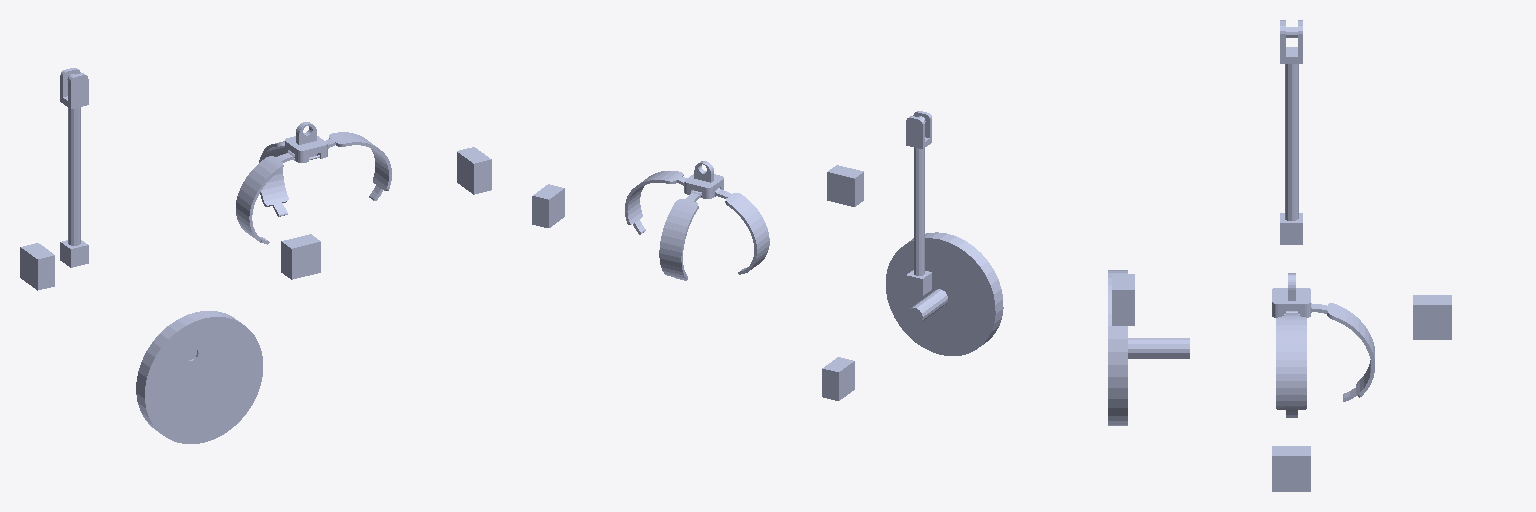
URDF robot description (bot3):
<?xml version="1.0" encoding="utf-8"?>
<!-- This URDF was automatically created by SolidWorks to URDF Exporter! Originally created by [author] ([email redacted]) 
     Commit Version: 1.4.4-24-g24328f6  Build Version: 1.5.7084.36479
     For more information, please see http://wiki.ros.org/sw_urdf_exporter -->
<robot
  name="bot3">
  <link
    name="base_link">
    <inertial>
      <origin
        xyz="-0.00539024896013846 2.31910501349275E-16 0.0541649239591863"
        rpy="0 0 0" />
      <mass
        value="14.2038893873335" />
      <inertia
        ixx="0.27974817084405"
        ixy="1.99628703435387E-16"
        ixz="0.00733737300937465"
        iyy="0.314594359353927"
        iyz="5.31003671631253E-17"
        izz="0.507038773077114" />
    </inertial>
    <visual>
      <origin
        xyz="0 0 0"
        rpy="0 0 0" />
      <geometry>
        <mesh
          filename="package://bot3/meshes/base_link.STL" />
      </geometry>
      <material
        name="">
        <color
          rgba="0.792156862745098 0.819607843137255 0.933333333333333 1" />
      </material>
    </visual>
    <collision>
      <origin
        xyz="0 0 0"
        rpy="0 0 0" />
      <geometry>
        <mesh
          filename="package://bot3/meshes/base_link.STL" />
      </geometry>
    </collision>
  </link>
  <link
    name="FRW">
    <inertial>
      <origin
        xyz="0 -7.53920386007134E-05 -0.089381031363088"
        rpy="0 0 0" />
      <mass
        value="0.8334016991443" />
      <inertia
        ixx="0.00215743548655978"
        ixy="4.33680868994202E-19"
        ixz="1.75229940963233E-19"
        iyy="0.00216058181623486"
        iyz="-8.55705036383949E-07"
        izz="0.0039286091523943" />
    </inertial>
    <visual>
      <origin
        xyz="0 0 0"
        rpy="0 0 0" />
      <geometry>
        <mesh
          filename="package://bot3/meshes/FRW.STL" />
      </geometry>
      <material
        name="">
        <color
          rgba="0.792156862745098 0.819607843137255 0.933333333333333 1" />
      </material>
    </visual>
    <collision>
      <origin
        xyz="0 0 0"
        rpy="0 0 0" />
      <geometry>
        <mesh
          filename="package://bot3/meshes/FRW.STL" />
      </geometry>
    </collision>
  </link>
  <joint
    name="FRWJ"
    type="continuous">
    <origin
      xyz="0.125 -0.13 -0.025"
      rpy="1.5707963267949 0.39309481042652 -3.14159265358979" />
    <parent
      link="base_link" />
    <child
      link="FRW" />
    <axis
      xyz="0 0 1" />
    <safety_controller
      k_velocity="0" />
  </joint>
  <link
    name="RRW">
    <inertial>
      <origin
        xyz="-2.77555756156289E-17 -7.53920386007342E-05 -0.089381031363088"
        rpy="0 0 0" />
      <mass
        value="0.8334016991443" />
      <inertia
        ixx="0.00215743548655978"
        ixy="2.71050543121376E-19"
        ixz="4.66926912173933E-20"
        iyy="0.00216058181623486"
        iyz="-8.55705036383985E-07"
        izz="0.0039286091523943" />
    </inertial>
    <visual>
      <origin
        xyz="0 0 0"
        rpy="0 0 0" />
      <geometry>
        <mesh
          filename="package://bot3/meshes/RRW.STL" />
      </geometry>
      <material
        name="">
        <color
          rgba="0.792156862745098 0.819607843137255 0.933333333333333 1" />
      </material>
    </visual>
    <collision>
      <origin
        xyz="0 0 0"
        rpy="0 0 0" />
      <geometry>
        <mesh
          filename="package://bot3/meshes/RRW.STL" />
      </geometry>
    </collision>
  </link>
  <joint
    name="RRWJ"
    type="continuous">
    <origin
      xyz="-0.125 -0.13 -0.025"
      rpy="1.5707963267949 0.39309481042652 -3.14159265358979" />
    <parent
      link="base_link" />
    <child
      link="RRW" />
    <axis
      xyz="0 0 1" />
    <safety_controller
      k_velocity="0" />
  </joint>
  <link
    name="FLW">
    <inertial>
      <origin
        xyz="0 -7.53920386007238E-05 -0.0893810313630881"
        rpy="0 0 0" />
      <mass
        value="0.8334016991443" />
      <inertia
        ixx="0.00215743548655978"
        ixy="-8.79635490065067E-21"
        ixz="2.78368928810459E-19"
        iyy="0.00216058181623486"
        iyz="-8.5570503638385E-07"
        izz="0.0039286091523943" />
    </inertial>
    <visual>
      <origin
        xyz="0 0 0"
        rpy="0 0 0" />
      <geometry>
        <mesh
          filename="package://bot3/meshes/FLW.STL" />
      </geometry>
      <material
        name="">
        <color
          rgba="0.792156862745098 0.819607843137255 0.933333333333333 1" />
      </material>
    </visual>
    <collision>
      <origin
        xyz="0 0 0"
        rpy="0 0 0" />
      <geometry>
        <mesh
          filename="package://bot3/meshes/FLW.STL" />
      </geometry>
    </collision>
  </link>
  <joint
    name="FLWJ"
    type="continuous">
    <origin
      xyz="0.125000000000004 0.13 -0.025"
      rpy="1.5707963267949 0 0" />
    <parent
      link="base_link" />
    <child
      link="FLW" />
    <axis
      xyz="0 0 1" />
    <safety_controller
      k_velocity="0" />
  </joint>
  <link
    name="RLW">
    <inertial>
      <origin
        xyz="-1.38777878078145E-17 -7.53920386007238E-05 -0.0893810313630881"
        rpy="0 0 0" />
      <mass
        value="0.8334016991443" />
      <inertia
        ixx="0.00215743548655978"
        ixy="-8.79635490065067E-21"
        ixz="2.78368928810459E-19"
        iyy="0.00216058181623486"
        iyz="-8.5570503638385E-07"
        izz="0.0039286091523943" />
    </inertial>
    <visual>
      <origin
        xyz="0 0 0"
        rpy="0 0 0" />
      <geometry>
        <mesh
          filename="package://bot3/meshes/RLW.STL" />
      </geometry>
      <material
        name="">
        <color
          rgba="0.792156862745098 0.819607843137255 0.933333333333333 1" />
      </material>
    </visual>
    <collision>
      <origin
        xyz="0 0 0"
        rpy="0 0 0" />
      <geometry>
        <mesh
          filename="package://bot3/meshes/RLW.STL" />
      </geometry>
    </collision>
  </link>
  <joint
    name="RLWJ"
    type="continuous">
    <origin
      xyz="-0.124999999999996 0.13 -0.025"
      rpy="1.5707963267949 0 0" />
    <parent
      link="base_link" />
    <child
      link="RLW" />
    <axis
      xyz="0 0 1" />
    <safety_controller
      k_velocity="0" />
  </joint>
  <link
    name="CL">
    <inertial>
      <origin
        xyz="0.015 0 -6.93889390390723E-18"
        rpy="0 0 0" />
      <mass
        value="0.075" />
      <inertia
        ixx="3.125E-05"
        ixy="4.76321900401482E-37"
        ixz="4.23516473627154E-22"
        iyy="2.125E-05"
        iyz="-1.92107072437275E-21"
        izz="2.125E-05" />
    </inertial>
    <visual>
      <origin
        xyz="0 0 0"
        rpy="0 0 0" />
      <geometry>
        <mesh
          filename="package://bot3/meshes/CL.STL" />
      </geometry>
      <material
        name="">
        <color
          rgba="0.792156862745098 0.819607843137255 0.933333333333333 1" />
      </material>
    </visual>
    <collision>
      <origin
        xyz="0 0 0"
        rpy="0 0 0" />
      <geometry>
        <mesh
          filename="package://bot3/meshes/CL.STL" />
      </geometry>
    </collision>
  </link>
  <joint
    name="CLJ"
    type="fixed">
    <origin
      xyz="0.05 0.23 0.125"
      rpy="-1.5707963267949 0 -1.5707963267949" />
    <parent
      link="base_link" />
    <child
      link="CL" />
    <axis
      xyz="0 0 0" />
    <safety_controller
      k_velocity="0" />
  </joint>
  <link
    name="CR">
    <inertial>
      <origin
        xyz="-0.215 0.125 0.0500000000000001"
        rpy="0 0 0" />
      <mass
        value="0.075" />
      <inertia
        ixx="3.125E-05"
        ixy="-1.62630325872826E-22"
        ixz="4.23516473627154E-22"
        iyy="2.125E-05"
        iyz="-1.30556011603463E-21"
        izz="2.125E-05" />
    </inertial>
    <visual>
      <origin
        xyz="0 0 0"
        rpy="0 0 0" />
      <geometry>
        <mesh
          filename="package://bot3/meshes/CR.STL" />
      </geometry>
      <material
        name="">
        <color
          rgba="0.792156862745098 0.819607843137255 0.933333333333333 1" />
      </material>
    </visual>
    <collision>
      <origin
        xyz="0 0 0"
        rpy="0 0 0" />
      <geometry>
        <mesh
          filename="package://bot3/meshes/CR.STL" />
      </geometry>
    </collision>
  </link>
  <joint
    name="CRJ"
    type="fixed">
    <origin
      xyz="0 0 0"
      rpy="1.5707963267949 0 1.5707963267949" />
    <parent
      link="base_link" />
    <child
      link="CR" />
    <axis
      xyz="0 0 0" />
    <safety_controller
      k_velocity="0" />
  </joint>
  <link
    name="FC">
    <inertial>
      <origin
        xyz="0.015 0 -3.18704616733903E-17"
        rpy="0 0 0" />
      <mass
        value="0.075" />
      <inertia
        ixx="3.125E-05"
        ixy="3.52930394689292E-22"
        ixz="-3.52930394689292E-22"
        iyy="2.125E-05"
        iyz="-1.53821183221381E-21"
        izz="2.125E-05" />
    </inertial>
    <visual>
      <origin
        xyz="0 0 0"
        rpy="0 0 0" />
      <geometry>
        <mesh
          filename="package://bot3/meshes/FC.STL" />
      </geometry>
      <material
        name="">
        <color
          rgba="0.792156862745098 0.819607843137255 0.933333333333333 1" />
      </material>
    </visual>
    <collision>
      <origin
        xyz="0 0 0"
        rpy="0 0 0" />
      <geometry>
        <mesh
          filename="package://bot3/meshes/FC.STL" />
      </geometry>
    </collision>
  </link>
  <joint
    name="FCJ"
    type="fixed">
    <origin
      xyz="0.225 0 0.04"
      rpy="1.5707963267949 0 0" />
    <parent
      link="base_link" />
    <child
      link="FC" />
    <axis
      xyz="0 0 0" />
    <safety_controller
      k_velocity="0" />
  </joint>
  <link
    name="EX1">
    <inertial>
      <origin
        xyz="0.161155451186496 0 -7.57413246857604E-18"
        rpy="0 0 0" />
      <mass
        value="0.14636282401554" />
      <inertia
        ixx="1.12799200839636E-05"
        ixy="6.14857749091434E-22"
        ixz="-1.3552621625763E-20"
        iyy="0.00339929403847134"
        iyz="-3.71025841885802E-22"
        izz="0.0033988227995733" />
    </inertial>
    <visual>
      <origin
        xyz="0 0 0"
        rpy="0 0 0" />
      <geometry>
        <mesh
          filename="package://bot3/meshes/EX1.STL" />
      </geometry>
      <material
        name="">
        <color
          rgba="0.792156862745098 0.819607843137255 0.933333333333333 1" />
      </material>
    </visual>
    <collision>
      <origin
        xyz="0 0 0"
        rpy="0 0 0" />
      <geometry>
        <mesh
          filename="package://bot3/meshes/EX1.STL" />
      </geometry>
    </collision>
  </link>
  <joint
    name="EX1J"
    type="prismatic">
    <origin
      xyz="0 0 0.305"
      rpy="1.5708 0 0" />
    <parent
      link="base_link" />
    <child
      link="EX1" />
    <axis
      xyz="1 0 0" />
    <limit
      lower="-0.315"
      upper="-0.1"
      effort="0"
      velocity="0.1" />
    <safety_controller
      k_velocity="0" />
  </joint>
  <link
    name="EX2">
    <inertial>
      <origin
        xyz="4.44089209850063E-16 0.0920741402028054 -1.69838482734986E-17"
        rpy="0 0 0" />
      <mass
        value="0.113544104313874" />
      <inertia
        ixx="0.00122889380118715"
        ixy="-6.75437002260653E-18"
        ixz="-1.55096364853646E-22"
        iyy="1.14057807724062E-05"
        iyz="8.31875062783753E-21"
        izz="0.00122785139310429" />
    </inertial>
    <visual>
      <origin
        xyz="0 0 0"
        rpy="0 0 0" />
      <geometry>
        <mesh
          filename="package://bot3/meshes/EX2.STL" />
      </geometry>
      <material
        name="">
        <color
          rgba="0.792156862745098 0.819607843137255 0.933333333333333 1" />
      </material>
    </visual>
    <collision>
      <origin
        xyz="0 0 0"
        rpy="0 0 0" />
      <geometry>
        <mesh
          filename="package://bot3/meshes/EX2.STL" />
      </geometry>
    </collision>
  </link>
  <joint
    name="EX2J"
    type="prismatic">
    <origin
      xyz="0.39 0 0"
      rpy="0 0 -3.1416" />
    <parent
      link="EX1" />
    <child
      link="EX2" />
    <axis
      xyz="0 1 0" />
    <limit
      lower="-0.19"
      upper="-0.1"
      effort="0"
      velocity="0.1" />
    <safety_controller
      k_velocity="0" />
  </joint>
  <link
    name="CH">
    <inertial>
      <origin
        xyz="0.00500000000000006 -0.0216242094225185 -3.35279381550874E-17"
        rpy="0 0 0" />
      <mass
        value="0.048063273821427" />
      <inertia
        ixx="1.24572997737268E-05"
        ixy="4.65115346063441E-20"
        ixz="1.86115637824402E-21"
        iyy="1.73208224160396E-05"
        iyz="2.84519850944701E-20"
        izz="1.29112365047557E-05" />
    </inertial>
    <visual>
      <origin
        xyz="0 0 0"
        rpy="0 0 0" />
      <geometry>
        <mesh
          filename="package://bot3/meshes/CH.STL" />
      </geometry>
      <material
        name="">
        <color
          rgba="0.792156862745098 0.819607843137255 0.933333333333333 1" />
      </material>
    </visual>
    <collision>
      <origin
        xyz="0 0 0"
        rpy="0 0 0" />
      <geometry>
        <mesh
          filename="package://bot3/meshes/CH.STL" />
      </geometry>
    </collision>
  </link>
  <joint
    name="CHJ"
    type="revolute">
    <origin
      xyz="-0.00499999999999851 0.242500000000001 0"
      rpy="-3.14159265358979 0 0" />
    <parent
      link="EX2" />
    <child
      link="CH" />
    <axis
      xyz="0 0 1" />
    <limit
      lower="0"
      upper="1.6580627893946"
      effort="0"
      velocity="0.5527" />
    <safety_controller
      k_velocity="0" />
  </joint>
  <link
    name="F1">
    <inertial>
      <origin
        xyz="0.034932994986131 -0.0674950984027777 0.00999999691479042"
        rpy="0 0 0" />
      <mass
        value="0.0327956240400983" />
      <inertia
        ixx="6.15283967579236E-05"
        ixy="2.86215799158532E-06"
        ixz="-1.46173231479775E-12"
        iyy="1.18367075887975E-05"
        iyz="9.69053696758723E-12"
        izz="6.56025930550832E-05" />
    </inertial>
    <visual>
      <origin
        xyz="0 0 0"
        rpy="0 0 0" />
      <geometry>
        <mesh
          filename="package://bot3/meshes/F1.STL" />
      </geometry>
      <material
        name="">
        <color
          rgba="0.792156862745098 0.819607843137255 0.933333333333333 1" />
      </material>
    </visual>
    <collision>
      <origin
        xyz="0 0 0"
        rpy="0 0 0" />
      <geometry>
        <mesh
          filename="package://bot3/meshes/F1.STL" />
      </geometry>
    </collision>
  </link>
  <joint
    name="F1J"
    type="continuous">
    <origin
      xyz="-0.00500000000000017 -0.034466812234734 -0.0285765554884929"
      rpy="1.5707963267949 1.41405965199374 1.5707963267949" />
    <parent
      link="CH" />
    <child
      link="F1" />
    <axis
      xyz="0 0 1" />
    <safety_controller
      k_velocity="0" />
  </joint>
  <link
    name="F2">
    <inertial>
      <origin
        xyz="0.0052327318000738 -0.0442174523889779 0.0398034278907389"
        rpy="0 0 0" />
      <mass
        value="0.0655912984650824" />
      <inertia
        ixx="0.00012411457716629"
        ixy="-6.0584261167262E-06"
        ixz="8.01016987477847E-06"
        iyy="5.10590953648672E-05"
        iyz="2.36879809001188E-05"
        izz="0.000102761979754364" />
    </inertial>
    <visual>
      <origin
        xyz="0 0 0"
        rpy="0 0 0" />
      <geometry>
        <mesh
          filename="package://bot3/meshes/F2.STL" />
      </geometry>
      <material
        name="">
        <color
          rgba="0.792156862745098 0.819607843137255 0.933333333333333 1" />
      </material>
    </visual>
    <collision>
      <origin
        xyz="0 0 0"
        rpy="0 0 0" />
      <geometry>
        <mesh
          filename="package://bot3/meshes/F2.STL" />
      </geometry>
    </collision>
  </link>
  <joint
    name="F2J"
    type="continuous">
    <origin
      xyz="-0.00500000000000017 -0.032023443363666 0.0226843374036491"
      rpy="-1.5707963267949 -1.24471431687375 1.5707963267949" />
    <parent
      link="CH" />
    <child
      link="F2" />
    <axis
      xyz="0 0 1" />
    <safety_controller
      k_velocity="0" />
  </joint>
  <link
    name="F3">
    <inertial>
      <origin
        xyz="0.0404031061220904 -0.0707168179872533 -0.0100000040745558"
        rpy="0 0 0" />
      <mass
        value="0.0327956367752749" />
      <inertia
        ixx="6.15284310436947E-05"
        ixy="2.86215707176461E-06"
        ixz="-2.35428656258977E-12"
        iyy="1.18367112940564E-05"
        iyz="1.16010858562191E-11"
        izz="6.56026190945612E-05" />
    </inertial>
    <visual>
      <origin
        xyz="0 0 0"
        rpy="0 0 0" />
      <geometry>
        <mesh
          filename="package://bot3/meshes/F3.STL" />
      </geometry>
      <material
        name="">
        <color
          rgba="0.792156862745098 0.819607843137255 0.933333333333333 1" />
      </material>
    </visual>
    <collision>
      <origin
        xyz="0 0 0"
        rpy="0 0 0" />
      <geometry>
        <mesh
          filename="package://bot3/meshes/F3.STL" />
      </geometry>
    </collision>
  </link>
  <joint
    name="F3J"
    type="continuous">
    <origin
      xyz="-0.00500000000000017 -0.032023443363666 0.0226843374036491"
      rpy="-1.5707963267949 -1.24471431687375 1.5707963267949" />
    <parent
      link="CH" />
    <child
      link="F3" />
    <axis
      xyz="0 0 1" />
    <safety_controller
      k_velocity="0" />
  </joint>
  <link
    name="F4">
    <inertial>
      <origin
        xyz="0.0272741016307185 -0.0556483301030775 -0.0220000041027434"
        rpy="0 0 0" />
      <mass
        value="0.032795637170567" />
      <inertia
        ixx="6.15284320976473E-05"
        ixy="2.86215706096476E-06"
        ixz="-2.38098171486713E-12"
        iyy="1.18367114306114E-05"
        iyz="1.16569927346508E-11"
        izz="6.56026199083052E-05" />
    </inertial>
    <visual>
      <origin
        xyz="0 0 0"
        rpy="0 0 0" />
      <geometry>
        <mesh
          filename="package://bot3/meshes/F4.STL" />
      </geometry>
      <material
        name="">
        <color
          rgba="0.792156862745098 0.819607843137255 0.933333333333333 1" />
      </material>
    </visual>
    <collision>
      <origin
        xyz="0 0 0"
        rpy="0 0 0" />
      <geometry>
        <mesh
          filename="package://bot3/meshes/F4.STL" />
      </geometry>
    </collision>
  </link>
  <joint
    name="F4J"
    type="continuous">
    <origin
      xyz="0.0449999999999998 -0.0419999999999994 0.022"
      rpy="0 0 0.331213027868091" />
    <parent
      link="CH" />
    <child
      link="F4" />
    <axis
      xyz="0 0 1" />
    <safety_controller
      k_velocity="0" />
  </joint>
</robot>

--- Render facts (derived) ---
3 views of the same robot in one strip: view 1: azimuth 30°, elevation 25°; view 2: azimuth 150°, elevation 25°; view 3: azimuth 270°, elevation 25° (orthographic).
Model bot3 with 15 links and 14 joints (1 revolute, 8 continuous, 2 prismatic, 3 fixed), rooted at base_link, posed all joints at 0 but 2 set to mid-range because 0 is outside their limits (EX1J = -0.2075, EX2J = -0.145).
Visible links, largest first — view 1: RRW, EX2, F2, F4, CR, FC, CL, CH; view 2: RRW, F2, EX2, F4, CR, CL, FC, CH; view 3: F2, EX2, RRW, FC, CL, CR, CH.
Link boxes in pixels (x1,y1,x2,y2): RRW: (136, 311, 262, 443); EX2: (60, 68, 88, 267); F2: (259, 132, 391, 216); F4: (236, 151, 294, 244); CR: (281, 234, 320, 279); FC: (457, 147, 491, 194); CL: (20, 243, 54, 290); CH: (285, 122, 327, 162); RRW: (886, 232, 1003, 355); F2: (625, 171, 701, 280); EX2: (906, 111, 931, 295); F4: (715, 188, 769, 274); CR: (827, 165, 863, 206); CL: (822, 357, 854, 400); FC: (532, 184, 564, 227); CH: (684, 161, 723, 198); F2: (1276, 303, 1374, 417); EX2: (1280, 20, 1302, 244); RRW: (1108, 270, 1189, 425); FC: (1272, 446, 1310, 491); CL: (1413, 295, 1451, 339); CR: (1112, 274, 1134, 325); CH: (1272, 273, 1310, 317).
Bounding box of the posed robot: 0.7048 × 0.44 × 0.52 m (x, y, z).
Meshes: 15 distinct files referenced, 8 mesh visuals loaded (8 binary STL); not drawn: 7 (reference not matched to a file when rendering).